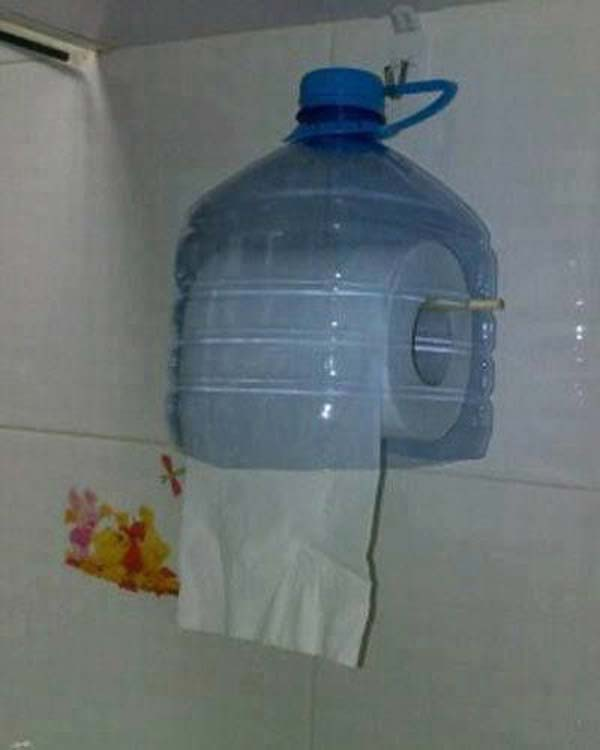plastic_bottle: (107, 33, 560, 545)
